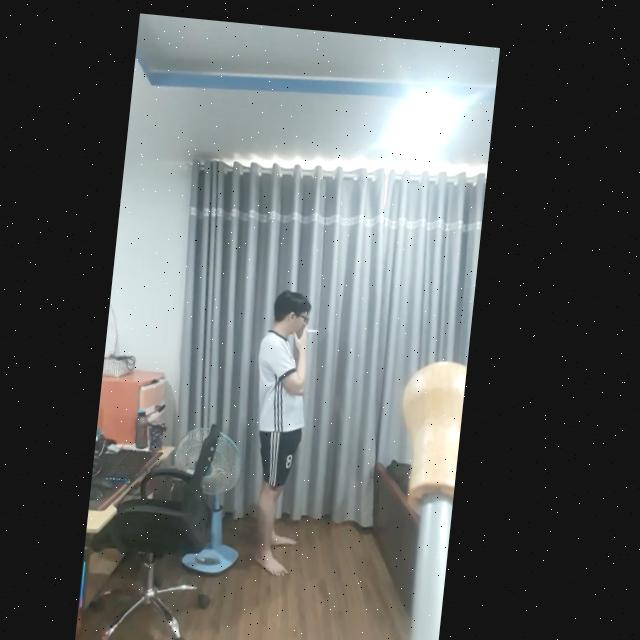cigarette: (315, 320, 327, 326)
